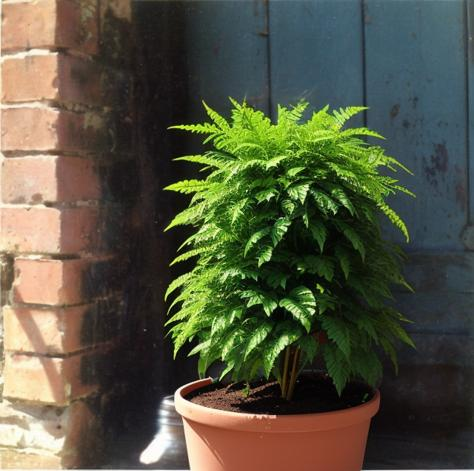cat: (144, 304, 262, 468)
pottedplant: (163, 98, 415, 470)
